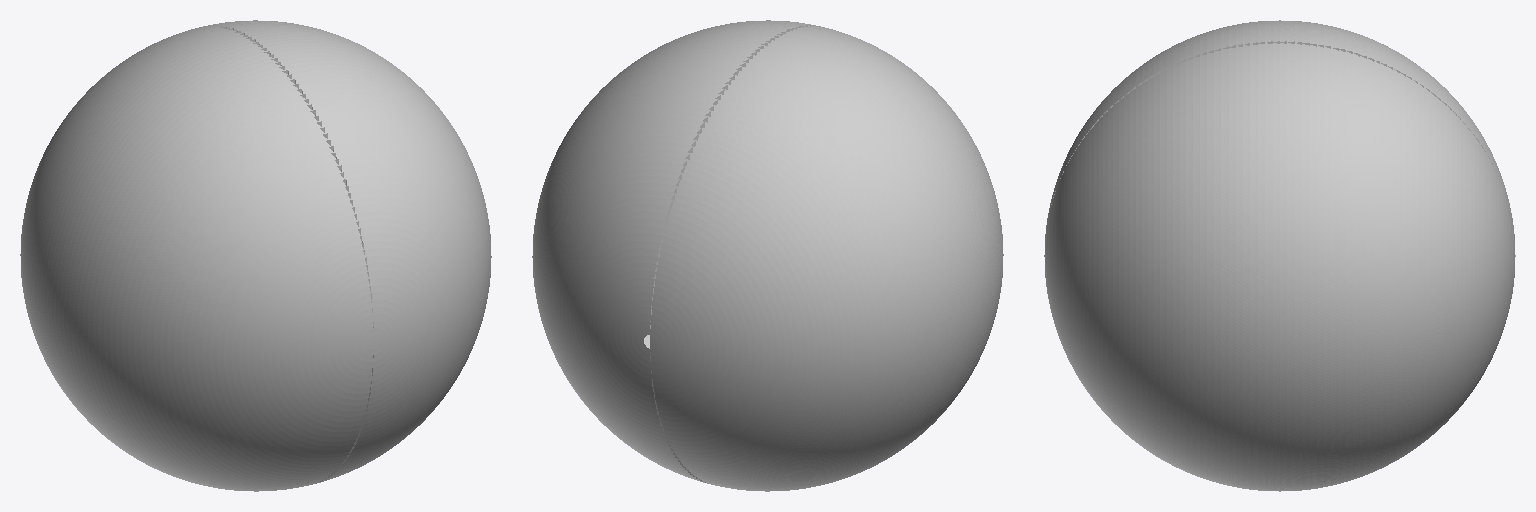
File: polygon-200-2021-05-04T14:36:02.522498Z.obj
3 views of the same model, side by side, from view 1: azimuth 30°, elevation 25°; view 2: azimuth 150°, elevation 25°; view 3: azimuth 270°, elevation 25° (orthographic).
Bounding box in the file's own units: 10 × 10 × 10.